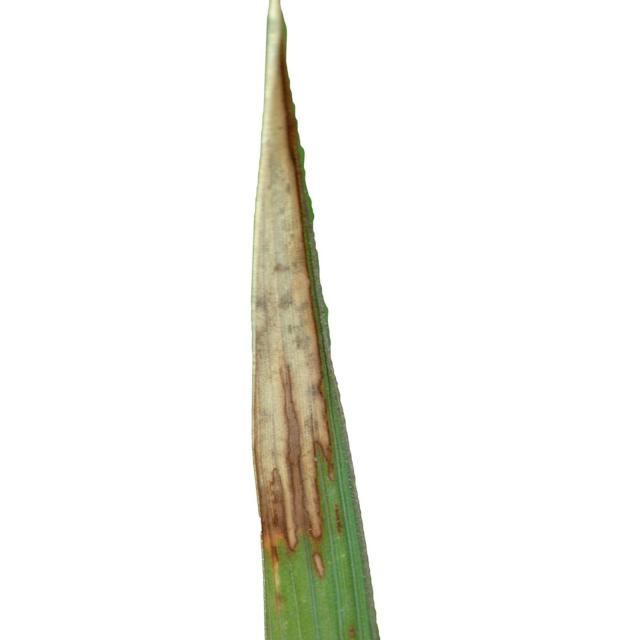Leaf scald: (135, 0, 484, 640)
